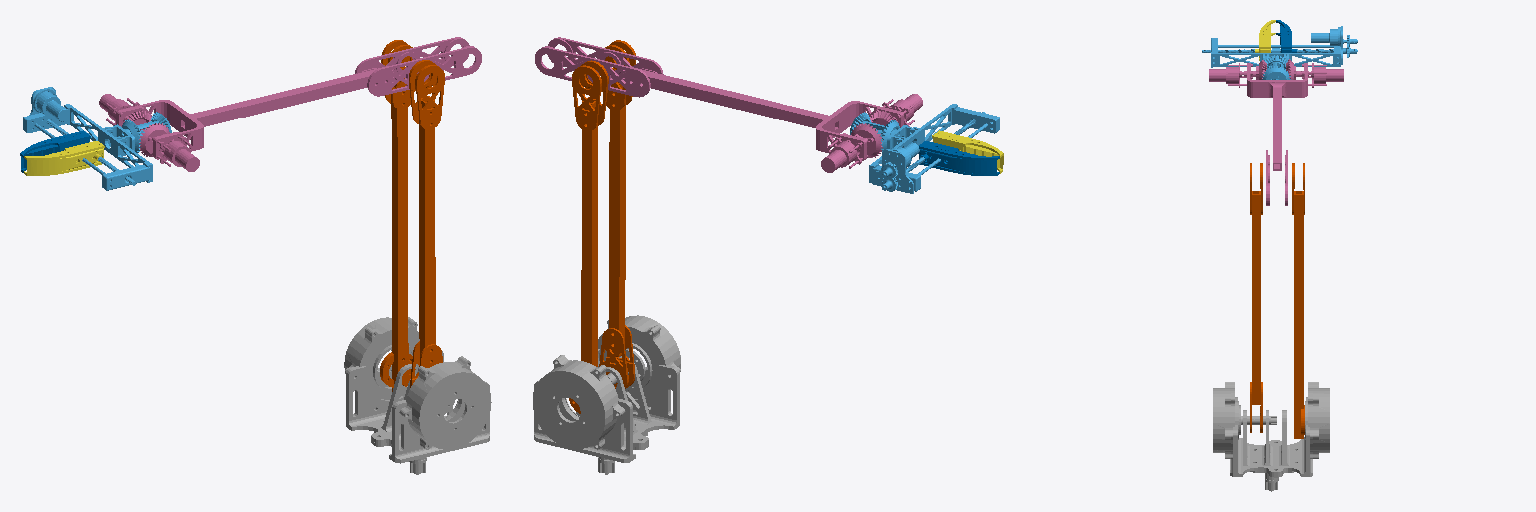
robot.urdf — rm_the_good:
<robot name="rm_the_good" version="1.0">

  <!-- JOINTS (unchanged) -->
  <joint name="bevel_pitch" type="revolute">
    <dynamics damping="2.0"/>
    <limit lower="-1.57" upper="1.57" effort="5" velocity="1"/>
    <origin rpy="0 0 0" xyz="-0.52322 -0.00182 -0.00020"/>
    <parent link="link2_link"/>
    <child link="bevel_link"/>
    <axis xyz="0 1 0"/>
  </joint>

  <joint name="bevel_roll" type="revolute">
    <limit lower="-3.14" upper="3.14" effort="5" velocity="1"/>
    <origin rpy="0 0 0" xyz="0 0 0"/>
    <parent link="bevel_link"/>
    <child link="bevel_link.001"/>
    <axis xyz="-1 0 0"/>
  </joint>

  <joint name="gripper_l" type="prismatic">
    <limit lower="0" upper="0.06" effort="0.5" velocity="0.8"/>
    <origin rpy="0 0 0" xyz="-0.11603 -0.01154 -0.00026"/>
    <parent link="bevel_link.001"/>
    <child link="gripperl_link"/>
    <axis xyz="0 -1 0"/>
  </joint>

  <joint name="gripper_r" type="prismatic">
    <limit lower="0" upper="0.06" effort="0.5" velocity="0.8"/>
    <origin rpy="0 0 0" xyz="-0.11612 0.00953 -0.00026"/>
    <parent link="bevel_link.001"/>
    <child link="gripperr_link"/>
    <axis xyz="0 1 0"/>
  </joint>

  <joint name="link1" type="revolute">
    <dynamics damping="2.0"/>
    <limit lower="-1.3" upper="0.4" effort="200" velocity="0.5"/>
    <origin rpy="0 0 0" xyz="0 0.00974 0.135"/>
    <parent link="swivel_link"/>
    <child link="link1_link"/>
    <axis xyz="0 1 0"/>
  </joint>

  <joint name="link2" type="revolute">
    <dynamics damping="2.0"/>
    <limit lower="-1.0" upper="0.7" effort="200" velocity="0.5"/>
    <origin rpy="0 0 0" xyz="0.00206 0.00211 0.57999"/>
    <parent link="link1_link"/>
    <child link="link2_link"/>
    <axis xyz="0 1 0"/>
  </joint>

  <joint name="swivel" type="revolute">
    <dynamics damping="2.0"/>
    <limit lower="-1.57" upper="1.57" effort="200" velocity="0.5"/>
    <origin rpy="0 0 0" xyz="-0.25603 0.00250 0.56163"/>
    <parent link="body_link"/>
    <child link="swivel_link"/>
    <axis xyz="0 0 1"/>
  </joint>

  <!-- LINKS -->

  <!-- NOT FIXED AS REQUESTED -->
  <link name="bevel_link">
    <inertial>
    <origin xyz="0 0 0" rpy="0 0 0"/>
    <mass value="0.1"/>
    <inertia ixx="0.001" iyy="0.001" izz="0.001"
             ixy="0" ixz="0" iyz="0"/>
  </inertial>
  </link>

  <link name="bevel_link.001">
    <inertial>
      <origin xyz="0 0 0" rpy="0 0 0"/>
      <mass value="0.1"/>
      <inertia ixx="0.001" iyy="0.001" izz="0.001" ixy="0" ixz="0" iyz="0"/>
    </inertial>
    <collision>
      <geometry><mesh filename="package://actual_rm_description/meshes/stl/bevel.stl"/></geometry>
    </collision>
    <visual>
      <geometry><mesh filename="package://actual_rm_description/meshes/stl/wwad.stl"/></geometry>
    </visual>
  </link>

  <link name="body_link">
    <inertial>
      <origin xyz="0 0 0" rpy="0 0 0"/>
      <mass value="2.0"/>
      <inertia ixx="0.02" iyy="0.02" izz="0.02" ixy="0" ixz="0" iyz="0"/>
    </inertial>
    <collision>
      <geometry><mesh filename="package://actual_rm_description/meshes/stl/adshag.stl"/></geometry>
    </collision>
    <visual>
      <geometry><mesh filename="package://actual_rm_description/meshes/stl/body.stl"/></geometry>
    </visual>
  </link>

  <link name="gripperl_link">
    <inertial>
      <origin xyz="0 0 0" rpy="0 0 0"/>
      <mass value="0.05"/>
      <inertia ixx="0.0005" iyy="0.0005" izz="0.0005" ixy="0" ixz="0" iyz="0"/>
    </inertial>
    <collision>
      <geometry><mesh filename="package://actual_rm_description/meshes/stl/dsgsdah.stl"/></geometry>
    </collision>
    <visual>
      <geometry><mesh filename="package://actual_rm_description/meshes/stl/awsf.stl"/></geometry>
    </visual>
  </link>

  <link name="gripperr_link">
    <inertial>
      <origin xyz="0 0 0" rpy="0 0 0"/>
      <mass value="0.05"/>
      <inertia ixx="0.0005" iyy="0.0005" izz="0.0005" ixy="0" ixz="0" iyz="0"/>
    </inertial>
    <collision>
      <geometry><mesh filename="package://actual_rm_description/meshes/stl/afws.stl"/></geometry>
    </collision>
    <visual>
      <geometry><mesh filename="package://actual_rm_description/meshes/stl/afsg.stl"/></geometry>
    </visual>
  </link>

  <link name="link1_link">
    <inertial>
      <origin xyz="0 0 0" rpy="0 0 0"/>
      <mass value="1.0"/>
      <inertia ixx="0.01" iyy="0.01" izz="0.01" ixy="0" ixz="0" iyz="0"/>
    </inertial>
    <collision>
      <geometry><mesh filename="package://actual_rm_description/meshes/stl/agsf.stl"/></geometry>
    </collision>
    <visual>
      <geometry><mesh filename="package://actual_rm_description/meshes/stl/link1.stl"/></geometry>
    </visual>
  </link>

  <link name="link2_link">
    <inertial>
      <origin xyz="0 0 0" rpy="0 0 0"/>
      <mass value="1.0"/>
      <inertia ixx="0.01" iyy="0.01" izz="0.01" ixy="0" ixz="0" iyz="0"/>
    </inertial>
    <collision>
      <geometry><mesh filename="package://actual_rm_description/meshes/stl/asgd.stl"/></geometry>
    </collision>
    <visual>
      <geometry><mesh filename="package://actual_rm_description/meshes/stl/link2.stl"/></geometry>
    </visual>
  </link>

  <link name="swivel_link">
    <inertial>
      <origin xyz="0 0 0" rpy="0 0 0"/>
      <mass value="1.0"/>
      <inertia ixx="0.01" iyy="0.01" izz="0.01" ixy="0" ixz="0" iyz="0"/>
    </inertial>
    <collision name="swivel.001">
      <origin rpy="0.00000 0.00000 0.00000" xyz="0.25603 -0.00250 -0.55817"/>
      <geometry>
        <mesh filename="package://actual_rm_description/meshes/stl/aesdg.stl" scale="1.00000 1.00000 1.00000"/>
      </geometry>
    </collision>
    <visual name="swivel">
      <origin rpy="0.00000 0.00000 0.00000" xyz="0.25603 -0.00250 -0.55817"/>
      <geometry>
        <mesh filename="package://actual_rm_description/meshes/stl/swivel.stl" scale="1.00000 1.00000 1.00000"/>
      </geometry>
    </visual>
  </link>


</robot>

--- Render facts (derived) ---
The picture shows the robot from 3 angles, left to right: view 1: azimuth 30°, elevation 25°; view 2: azimuth 150°, elevation 25°; view 3: azimuth 270°, elevation 25°; orthographic projection.
Robot: rm_the_good — 8 links, 7 joints (5 revolute, 2 prismatic); root link body_link; default pose: every joint at zero.
Links seen in each view (by area): view 1: swivel_link, link1_link, link2_link, bevel_link.001, gripperl_link, gripperr_link; view 2: swivel_link, link1_link, link2_link, bevel_link.001, gripperr_link, gripperl_link; view 3: swivel_link, link1_link, link2_link, bevel_link.001.
Boxes of the visible links, x1,y1,x2,y2 form: swivel_link: (344,317,491,474); link1_link: (380,40,444,391); link2_link: (99,37,481,171); bevel_link.001: (23,87,171,190); gripperl_link: (24,141,104,175); gripperr_link: (20,130,90,172); swivel_link: (533,315,680,474); link1_link: (569,40,635,413); link2_link: (535,37,922,172); bevel_link.001: (850,104,999,193); gripperr_link: (919,141,999,175); gripperl_link: (932,130,1003,173); swivel_link: (1213,382,1329,491); link1_link: (1250,163,1304,438); link2_link: (1209,59,1343,205); bevel_link.001: (1202,26,1357,79).
Size in the robot's own frame: 0.877 by 0.3367 by 0.7974 metres.
6 mesh visuals loaded from 7 distinct referenced files (6 binary STL); not drawn: 1 (reference not matched to a file when rendering).
